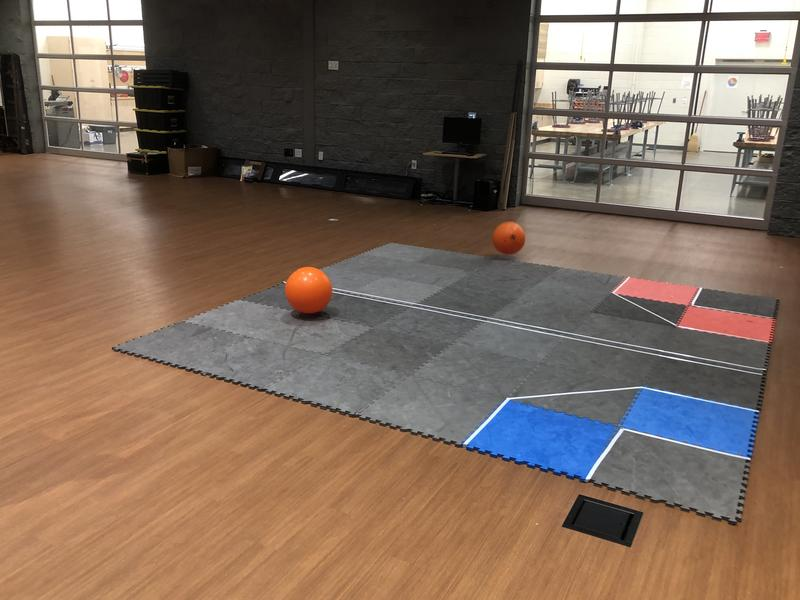ball: (283, 269, 335, 313), (491, 218, 526, 255)
